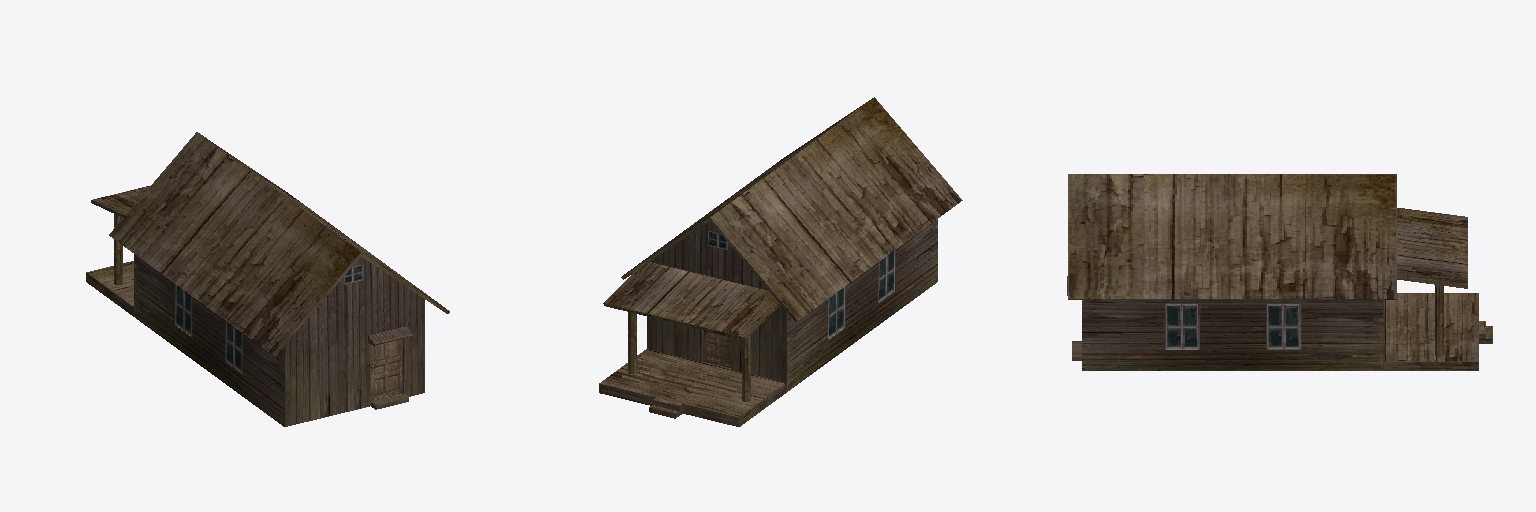
The picture shows the model from 3 angles: view 1: azimuth 30°, elevation 25°; view 2: azimuth 150°, elevation 25°; view 3: azimuth 270°, elevation 25°; orthographic projection.
Visible parts, largest first — view 1: polySurface73; view 2: polySurface73; view 3: polySurface73.
Boxes of the visible parts, <box> form: polySurface73: <box>86,132,449,426</box>; polySurface73: <box>599,97,962,426</box>; polySurface73: <box>1067,174,1492,370</box>.
Bounding box in the file's own units: 24.28 × 21.28 × 50.36.
1 materials, 1 textured.